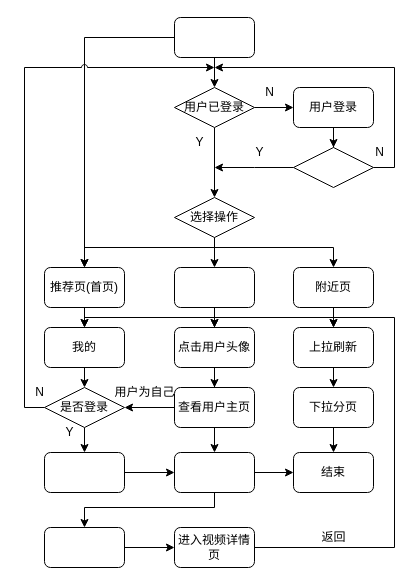
Image size: 420x585. Some labels were removed from this diagram. Each missing label, with the centre of its shape:
关注页: pixel 214 287
开始: pixel 214 37
查看公开、赞过作品: pixel 214 472
点击特定视频: pixel 84 547
登录成功: pixel 333 167
私密作品: pixel 84 472
